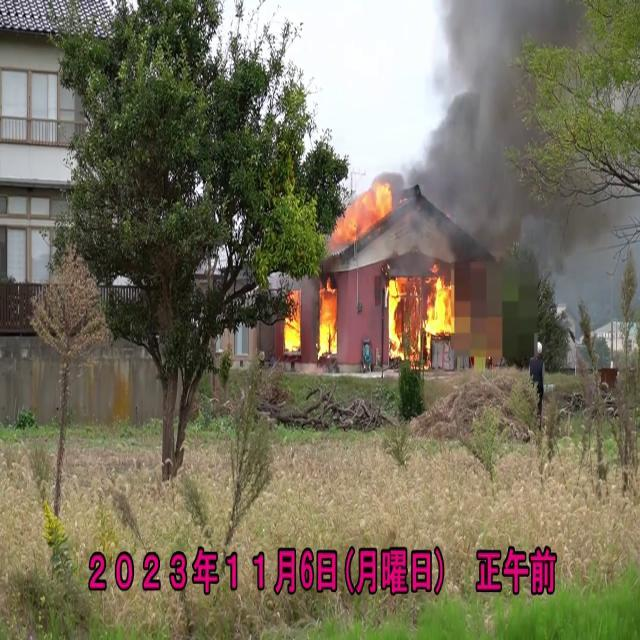Fire: (384, 268, 458, 360), (331, 173, 395, 249), (315, 276, 339, 362)
Smoke: (392, 0, 608, 268)
